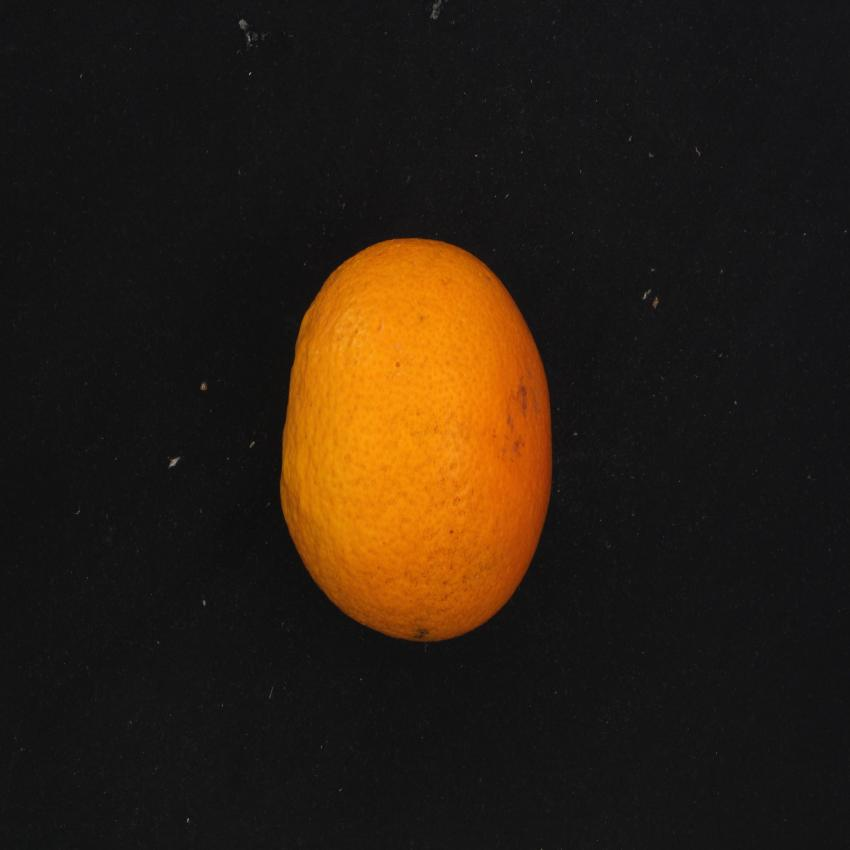Buen estado: (275, 225, 569, 655)
